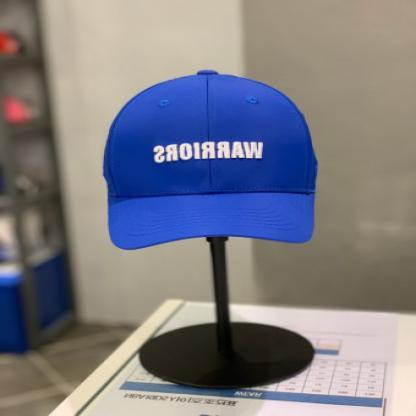cap: (96, 62, 330, 254)
